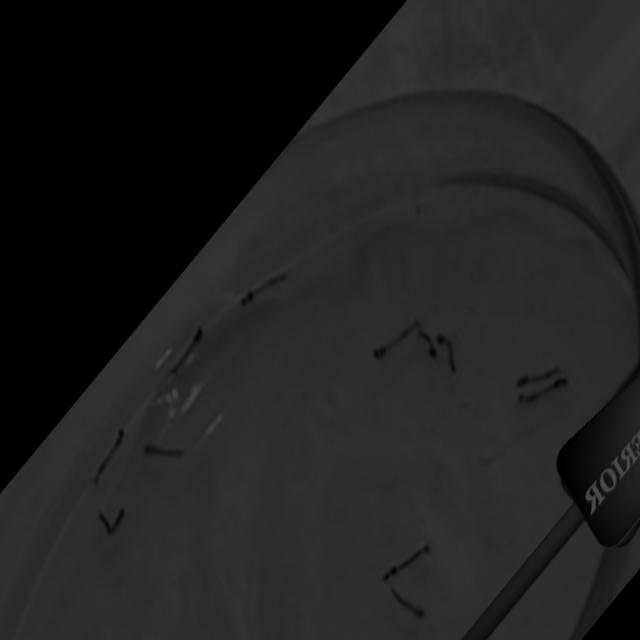larvas: (516, 372, 573, 407), (91, 426, 124, 485), (376, 317, 422, 358), (242, 270, 290, 305), (172, 328, 203, 377), (384, 543, 426, 579), (517, 361, 565, 392), (392, 588, 424, 620), (145, 438, 186, 461), (100, 508, 124, 535), (440, 331, 455, 366), (419, 329, 436, 356)
